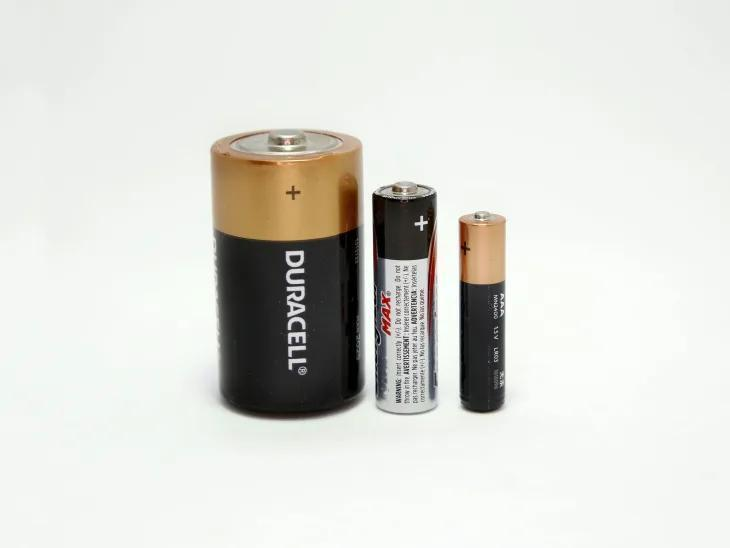AA: (372, 178, 444, 418)
AAA: (459, 208, 511, 418)
